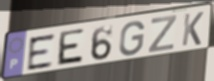6: (90, 24, 114, 62)
E: (26, 32, 57, 73), (55, 27, 86, 67)
G: (118, 20, 146, 58)
K: (180, 10, 205, 48)
Z: (146, 14, 178, 54)
